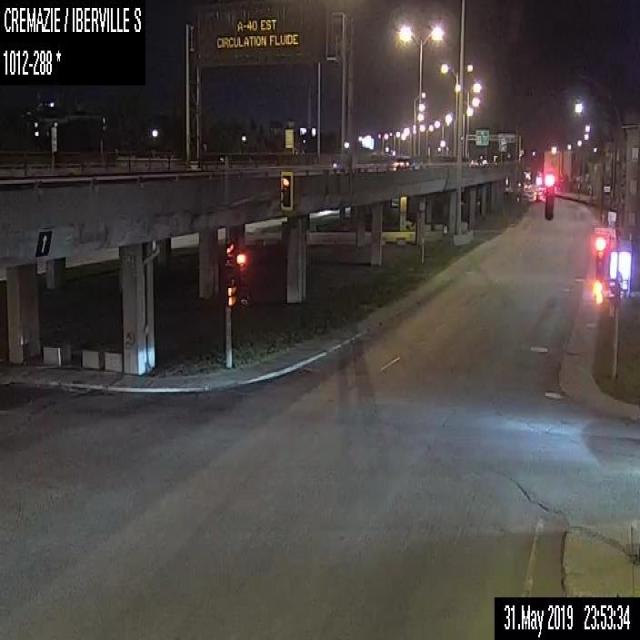vehicle: (396, 154, 422, 170), (470, 153, 487, 166), (331, 156, 345, 167), (532, 189, 541, 200)
